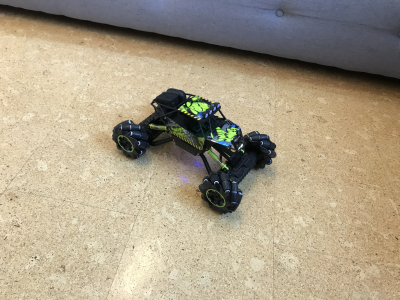remote control car: (111, 84, 280, 215)
